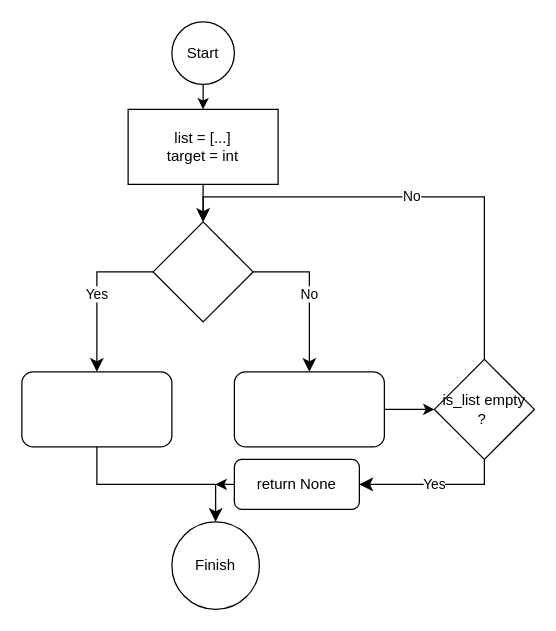
This 556x631 diagram has some shape labels left out. The shapes that lost their labels are listed below. From the top down, each one's centre as x and y in pixels, then its label:
pixel 202 271: is_target == mid ?
pixel 96 409: return index of target
pixel 308 409: list = list[start: end] mid = new_mid
